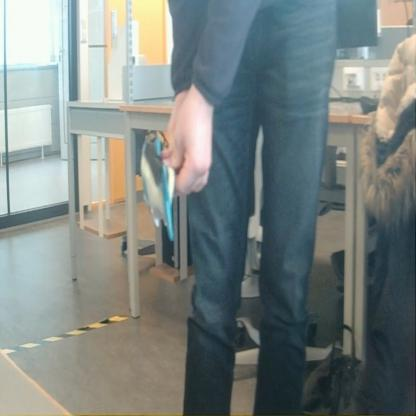rubberfish: (134, 116, 188, 245)
